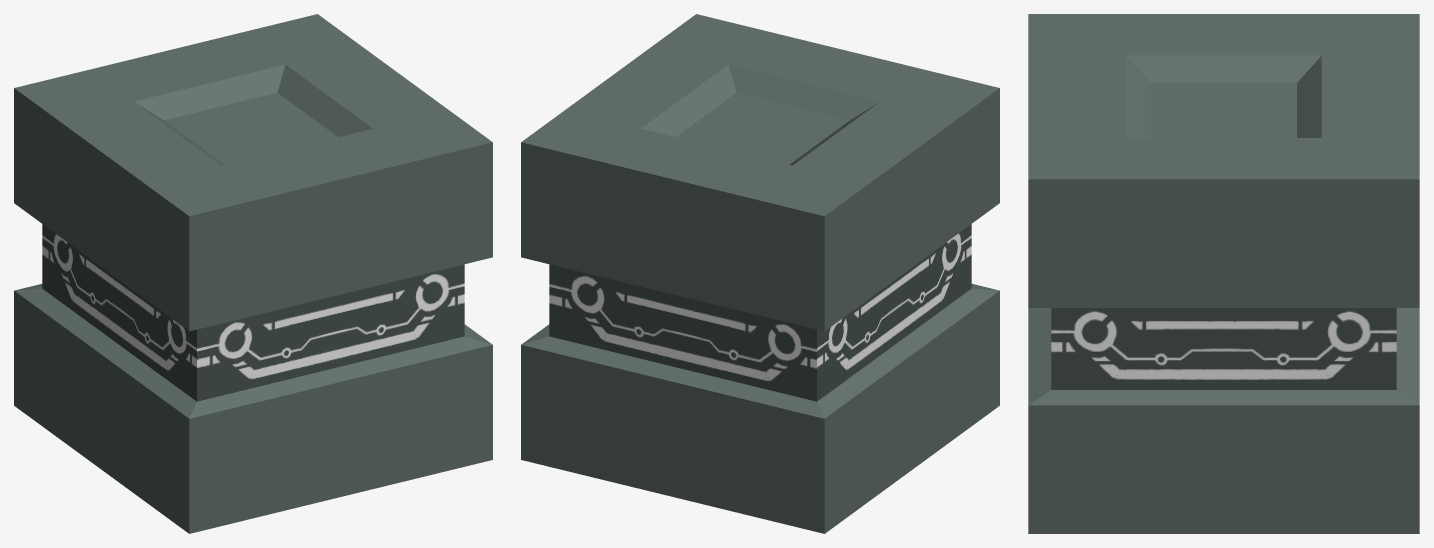
Rendered from BasicBlock_LvL_01.fbx.
3 renders of one model, left to right at view 1: azimuth 30°, elevation 25°; view 2: azimuth 150°, elevation 25°; view 3: azimuth 270°, elevation 25°, orthographic. The views are drawn at different scales.
Parts seen in each view (by area): view 1: polySurface5; view 2: polySurface5; view 3: polySurface5.
Part boxes in pixels (x1=…): polySurface5: x1=14, y1=14, x2=492, y2=533; polySurface5: x1=521, y1=14, x2=999, y2=533; polySurface5: x1=1028, y1=14, x2=1419, y2=533.
Bounding box in the file's own units: 1 × 1 × 1.
